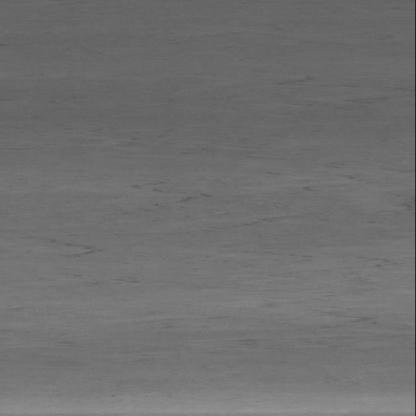silk_spot: (46, 138, 406, 300)
